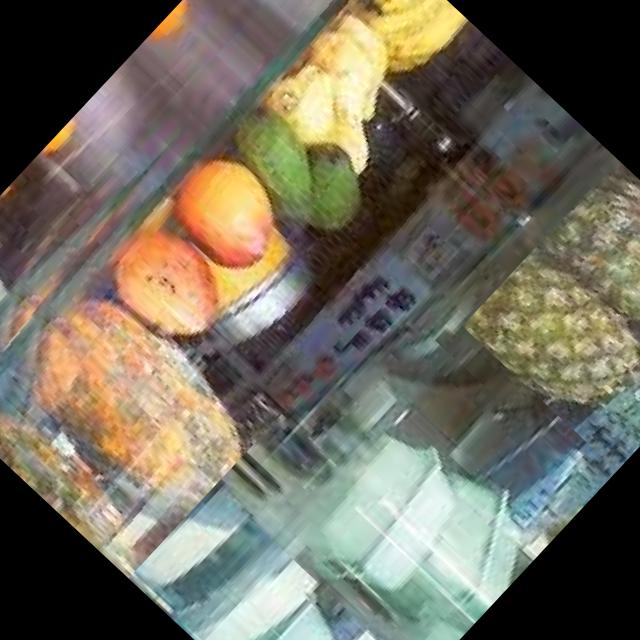Organic: (0, 0, 563, 578), (461, 160, 640, 471)
